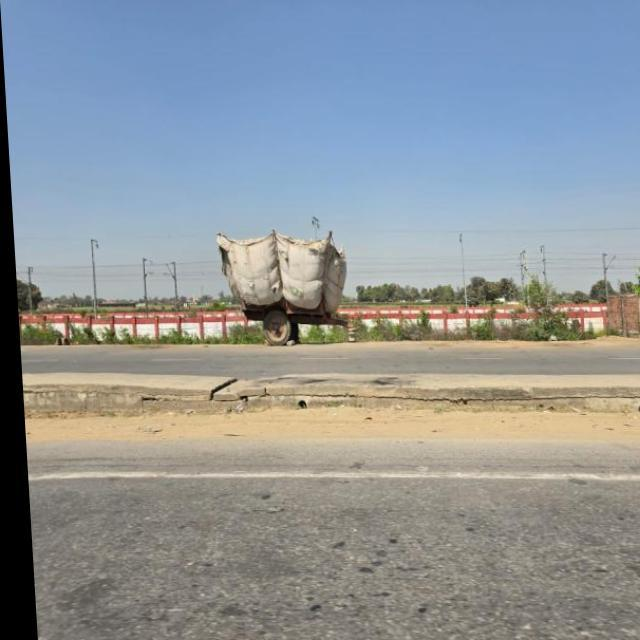covered: (204, 215, 346, 336)
